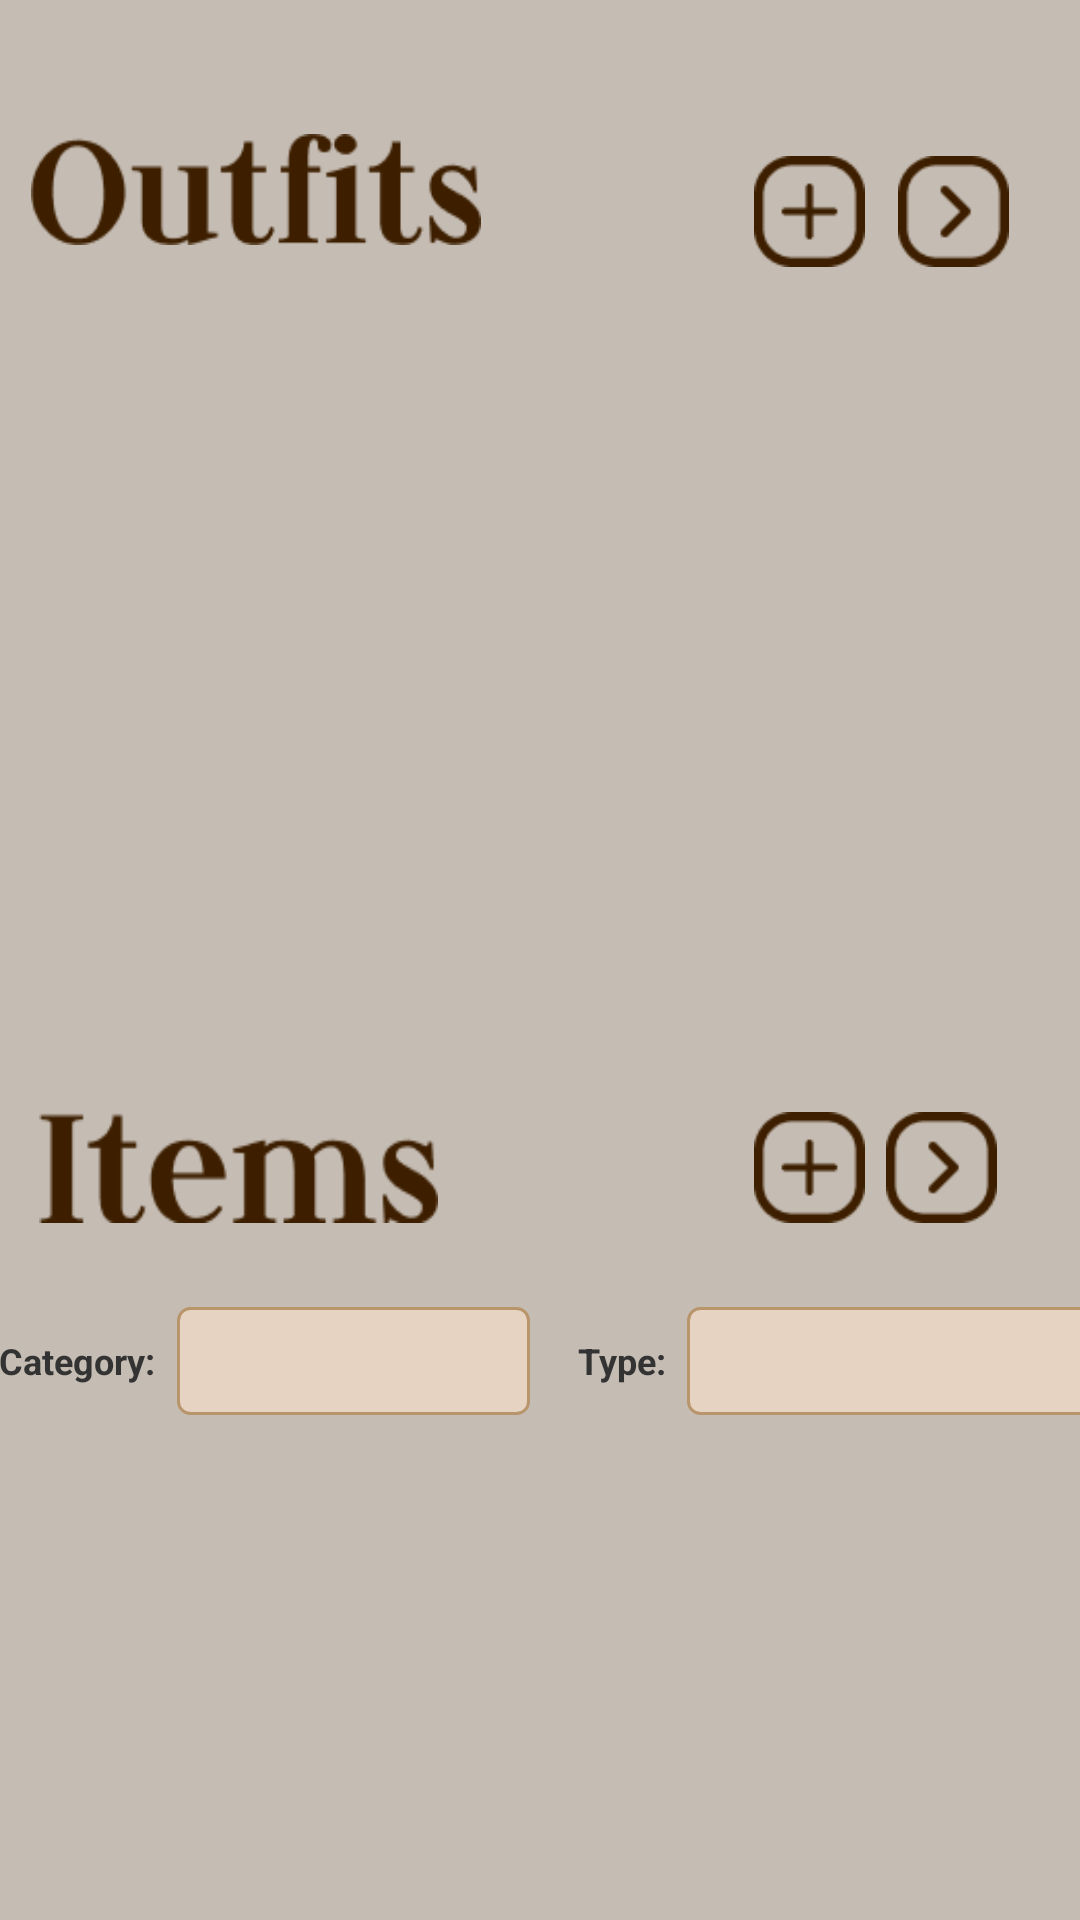

Where to tap for icons on this 1080px x 1920px app screen, as point (x, y):
add: point (809, 211), point (809, 1167)
Outfit View Icon: point (953, 211)
